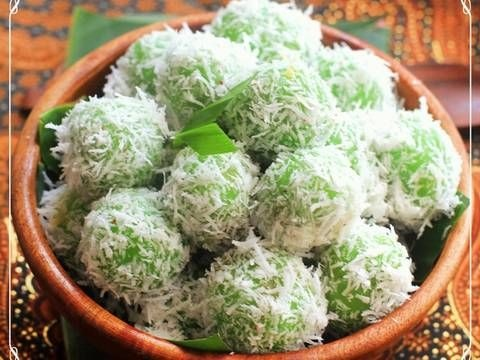klepon: (246, 147, 362, 255)
